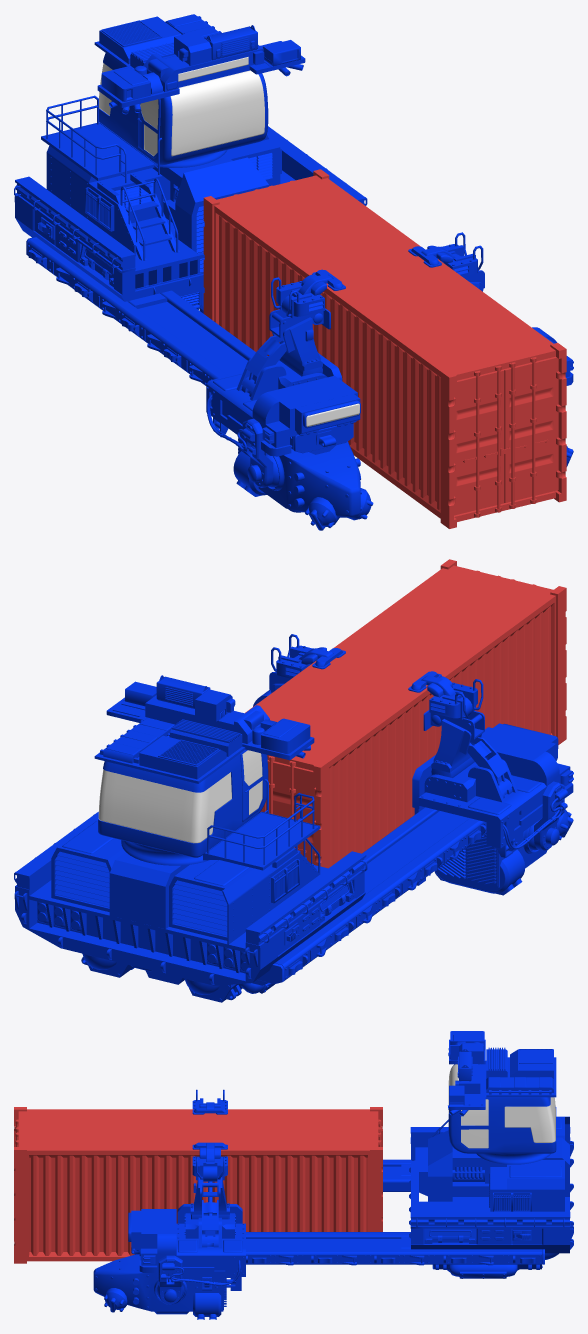
File: Vehicle_HoverTransporter_A.FBX
3 renders of one model, top to bottom at view 1: azimuth 30°, elevation 25°; view 2: azimuth 150°, elevation 25°; view 3: azimuth 270°, elevation 25°, orthographic. The views are drawn at different scales.
Visible parts, largest first — view 1: Geometry_Vehicle_HoverTransporter_A_LOD00; view 2: Geometry_Vehicle_HoverTransporter_A_LOD00; view 3: Geometry_Vehicle_HoverTransporter_A_LOD00.
Part boxes in pixels (bbox=[...]): Geometry_Vehicle_HoverTransporter_A_LOD00: bbox=[14, 14, 573, 530]; Geometry_Vehicle_HoverTransporter_A_LOD00: bbox=[14, 559, 573, 1002]; Geometry_Vehicle_HoverTransporter_A_LOD00: bbox=[14, 1031, 573, 1319].
Size of what is drawn, in the model's own units: 804 by 720 by 1633.
